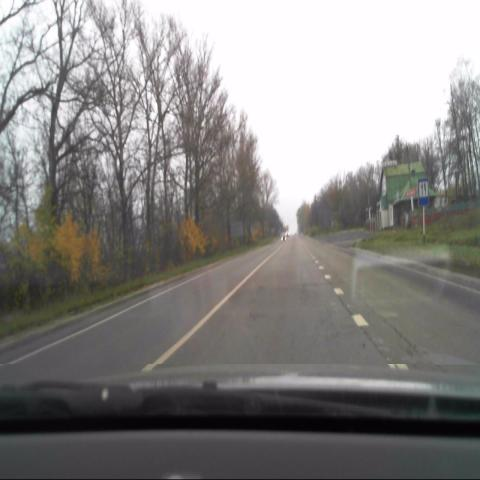7_7: (418, 178, 429, 206)
